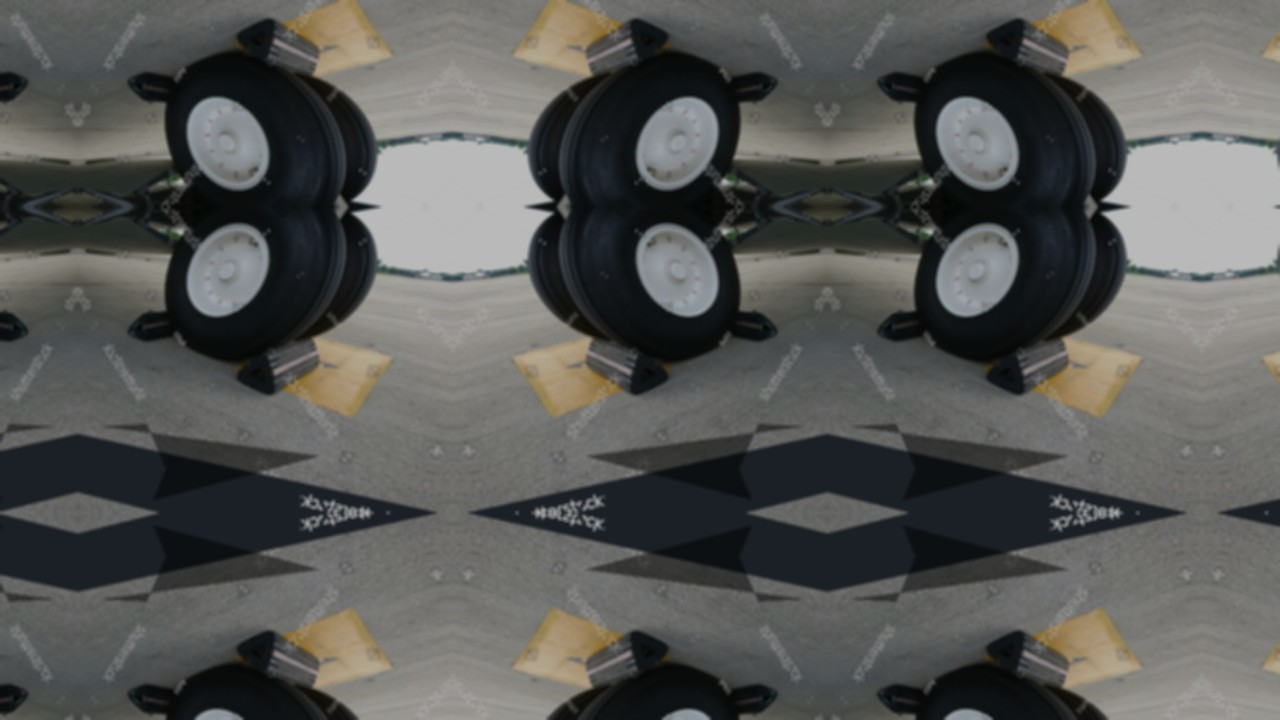chock: (231, 11, 328, 88), (577, 11, 674, 88), (981, 11, 1078, 88), (231, 326, 328, 402), (577, 326, 674, 402), (981, 326, 1078, 402), (231, 624, 328, 700), (577, 624, 674, 700), (981, 624, 1078, 700), (122, 65, 188, 114), (717, 65, 783, 114), (872, 65, 938, 114), (122, 300, 188, 348), (717, 300, 783, 348), (872, 300, 938, 348), (122, 678, 188, 720), (717, 678, 783, 720), (872, 678, 938, 720), (0, 65, 33, 114), (0, 300, 33, 348), (0, 678, 33, 720)
wheel: (141, 37, 365, 207), (540, 37, 764, 207), (891, 37, 1115, 207), (141, 207, 365, 376), (540, 207, 764, 376), (891, 207, 1115, 376), (141, 650, 365, 720), (540, 650, 764, 720), (891, 650, 1115, 720), (291, 64, 397, 207), (508, 64, 614, 207), (1041, 64, 1147, 207), (291, 207, 397, 349), (508, 207, 614, 349), (1041, 207, 1147, 349), (291, 677, 397, 720), (508, 677, 614, 720), (1041, 677, 1147, 720), (1258, 64, 1280, 207), (1258, 207, 1280, 349), (0, 37, 14, 207), (0, 207, 14, 376), (1258, 677, 1280, 720)
